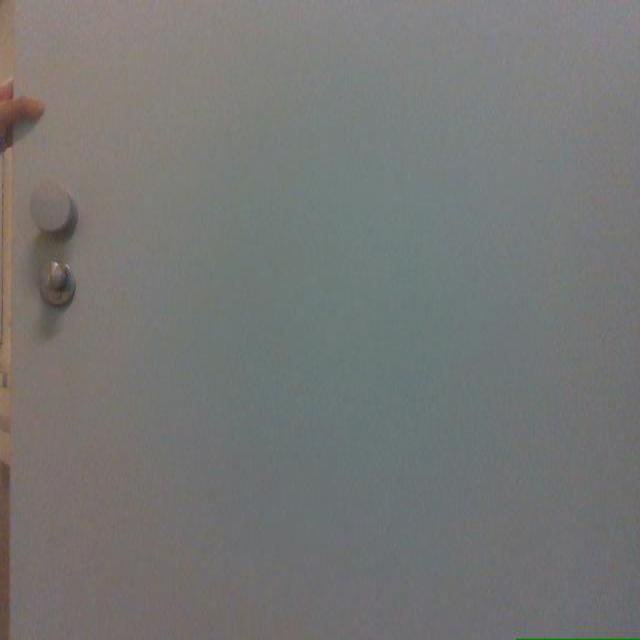humans: (0, 81, 43, 148)
objects: (6, 0, 639, 639)
